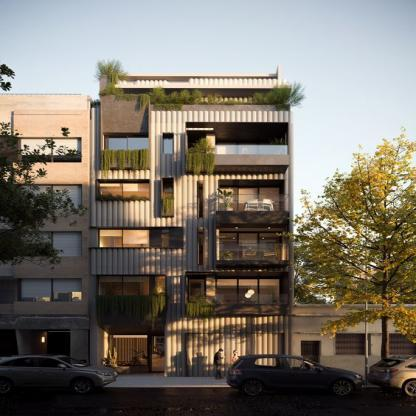Balcony: (215, 194, 290, 224), (215, 144, 291, 165), (215, 243, 290, 264), (215, 294, 289, 314)
Building Outline: (90, 64, 294, 376)
Door: (150, 335, 167, 373)
Facade: (89, 65, 294, 377)
Floor Slab: (92, 264, 289, 271), (92, 307, 289, 313), (91, 171, 288, 177), (92, 219, 289, 225)
Glass Wall: (220, 233, 282, 260), (217, 279, 279, 305), (220, 187, 279, 212), (217, 143, 279, 161)
Window: (186, 122, 288, 155), (216, 228, 289, 260), (218, 179, 285, 212), (110, 335, 147, 365), (100, 276, 150, 296), (100, 230, 149, 247), (100, 184, 149, 200), (109, 135, 149, 150), (189, 279, 204, 303), (188, 135, 205, 153), (155, 276, 166, 296), (163, 135, 173, 153), (163, 182, 173, 200), (161, 230, 169, 247), (199, 181, 202, 218), (199, 228, 202, 265)
